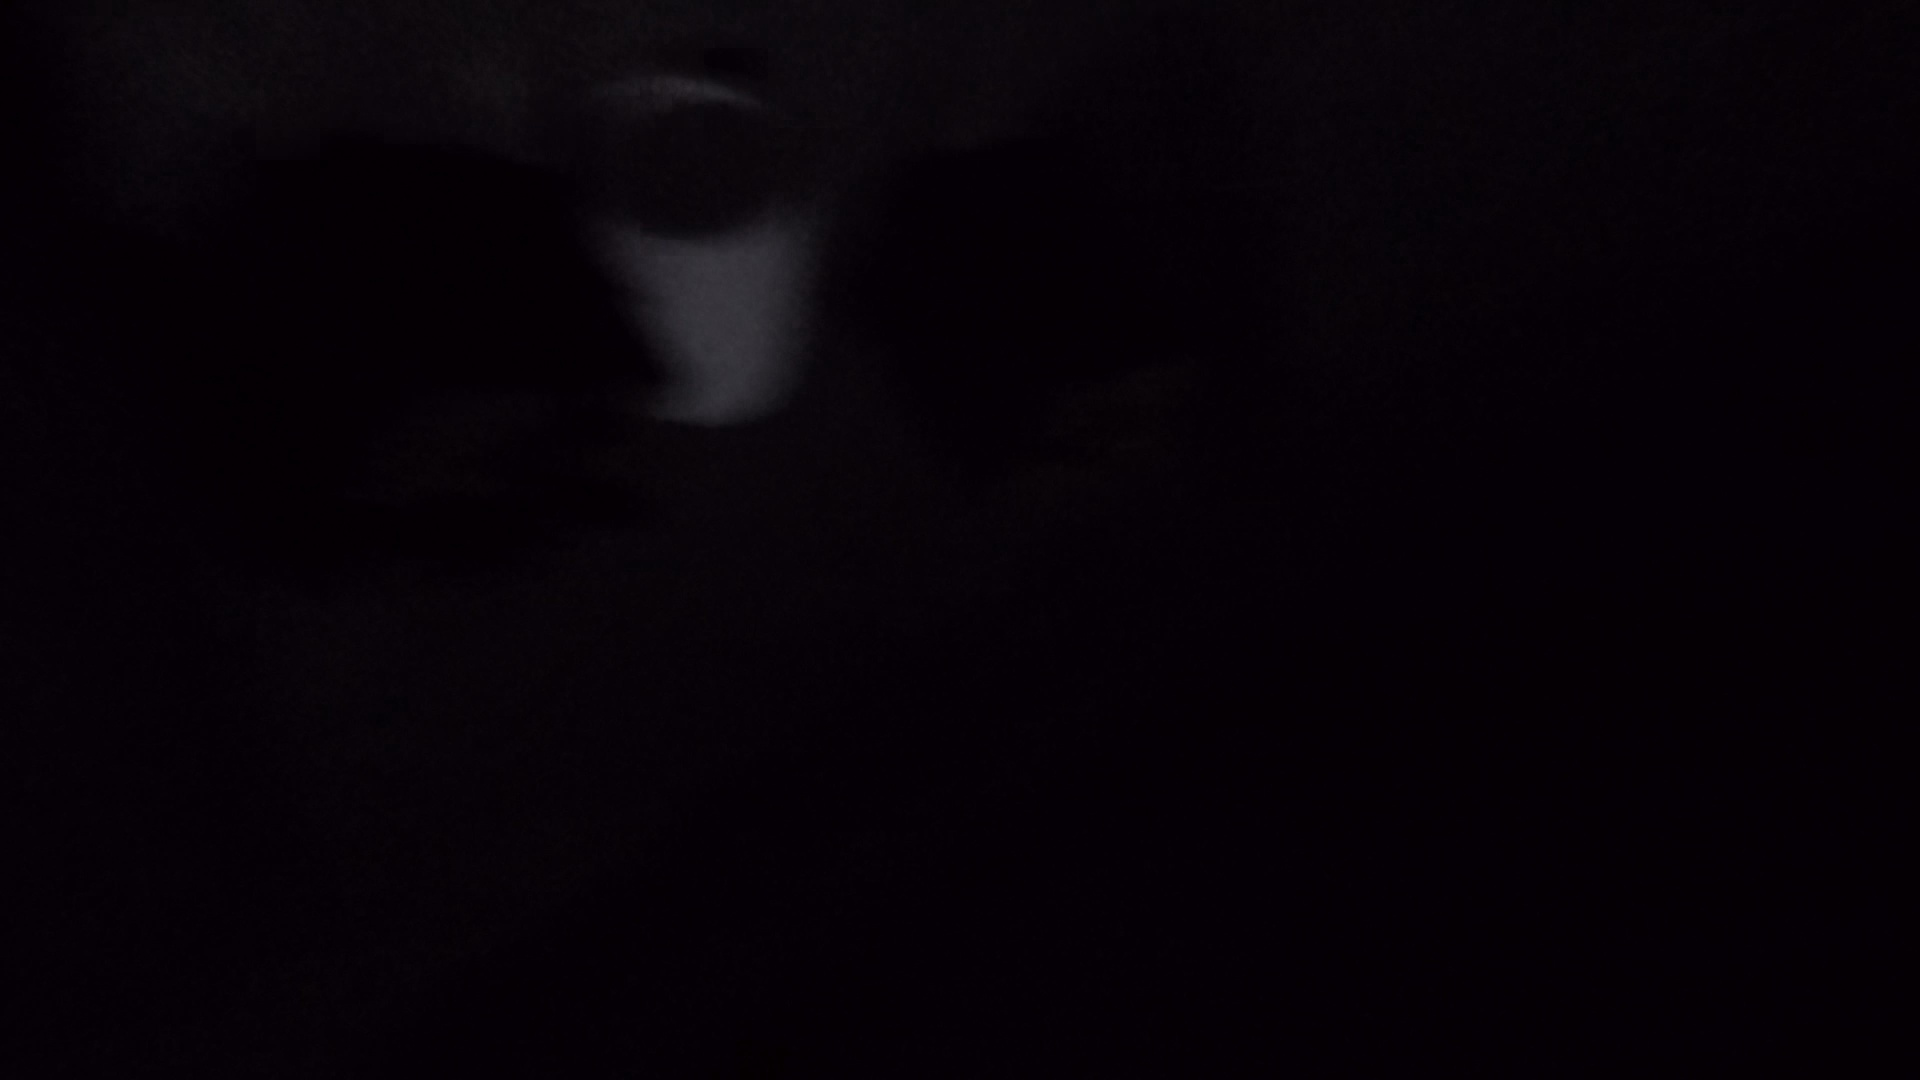led_block: (916, 135, 1199, 477)
pipe: (568, 69, 828, 427)
